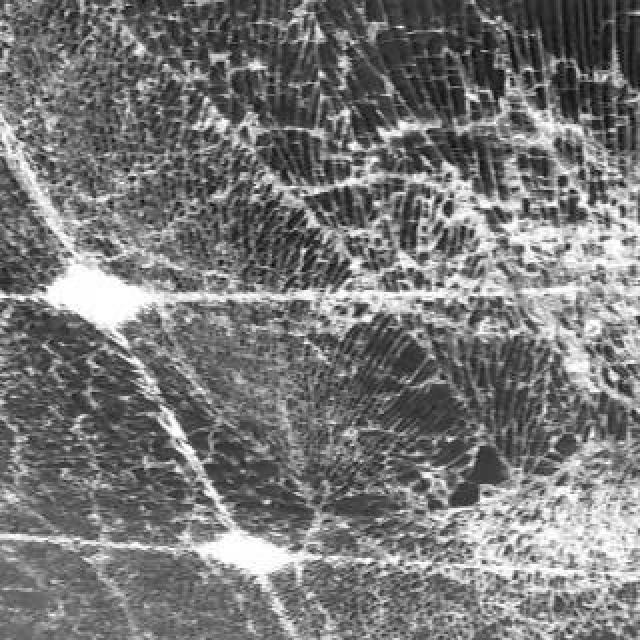Physical-damage: (308, 52, 640, 630), (22, 100, 260, 364)
